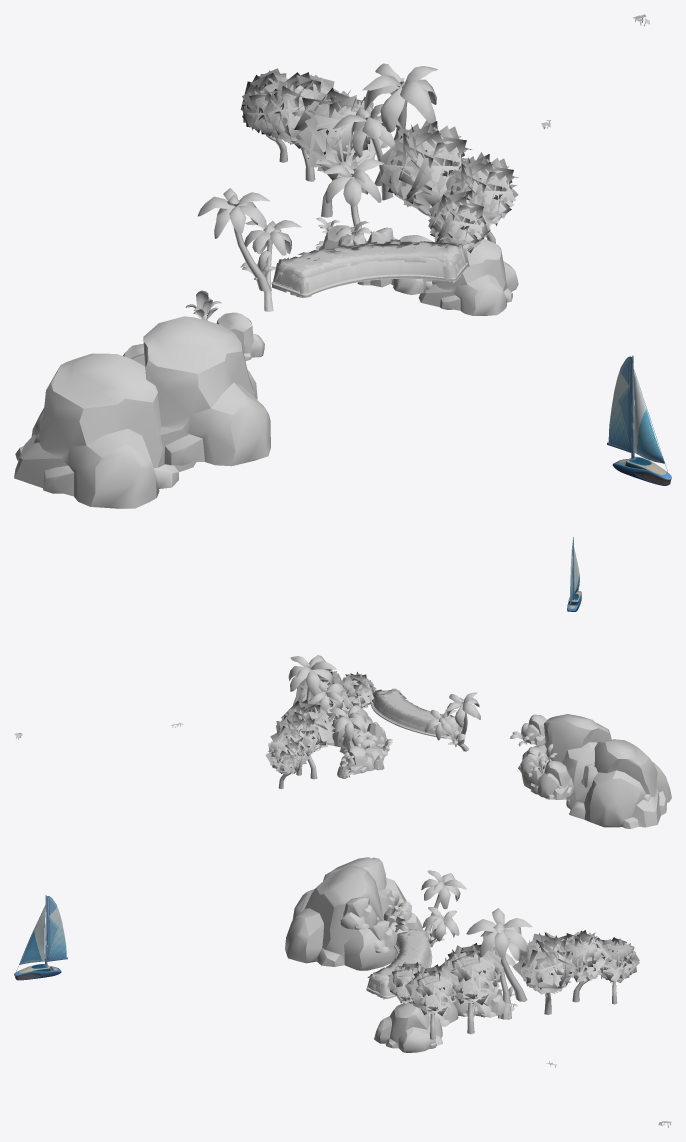
Rendered from pref_Area_Blue_Base_Small_beta_01_lv3.fbx.
3 views of the same model, one above another, from view 1: azimuth 30°, elevation 25°; view 2: azimuth 150°, elevation 25°; view 3: azimuth 270°, elevation 25° (orthographic). The views are drawn at different scales.
Parts seen in each view (by area): view 1: sm_beach_techqiutree02_lv3 (×6), pref_sm_beach_techrock01_lv3 (4), pref_sm_beach_techrock01_lv3 (3), pref_sm_beach_techvegetation04_lv3, pref_sm_beach_techptree02b_lv3 (×2), pref_sm_beach_sailboat02_lv3, pref_sm_beach_techrock01_lv3 (8), pref_sm_beach_techptree02b_lv3 (3), pref_sm_beach_techptree02b_lv3 (1), pref_sm_beach_techptree02b_lv3 (2), pref_sm_beach_techrock01_lv3 (1), sm_beach_techborn08_mirror02a_lv3 (+1 smaller); view 2: pref_sm_beach_techrock01_lv3 (4), sm_beach_techqiutree02_lv3 (×5), pref_sm_beach_techrock01_lv3 (3), pref_sm_beach_techptree02b_lv3 (×2), pref_sm_beach_techvegetation04_lv3, pref_sm_beach_techrock01_lv3 (10), pref_sm_beach_techptree02b_lv3 (3), pref_sm_beach_techptree02b_lv3 (1), pref_sm_beach_sailboat02_lv3, pref_sm_beach_techrock01_lv3 (2), pref_sm_beach_techptree02b_lv3 (2), pref_sm_beach_techrock01_lv3 (1); view 3: sm_beach_techqiutree02_lv3 (×6), pref_sm_beach_techrock01_lv3 (3), pref_sm_beach_sailboat02_lv3, pref_sm_beach_techptree02b_lv3 (×2), pref_sm_beach_techrock01_lv3 (8), pref_sm_beach_techvegetation04_lv3, pref_sm_beach_techrock01_lv3 (4), pref_sm_beach_techptree02b_lv3 (3), pref_sm_beach_techrock01_lv3 (1), pref_sm_beach_techptree02b_lv3 (2), pref_sm_beach_techrock01_lv3 (5), pref_sm_beach_techrock01_lv3 (2) (+1 smaller).
Part boxes in pixels (box(x1,y1,x2,y2)): sm_beach_techqiutree02_lv3 (×6): box(240, 68, 518, 253); pref_sm_beach_techrock01_lv3 (4): box(14, 353, 195, 508); pref_sm_beach_techrock01_lv3 (3): box(130, 316, 270, 466); pref_sm_beach_techvegetation04_lv3: box(271, 239, 469, 297); pref_sm_beach_techptree02b_lv3 (×2): box(333, 63, 437, 200); pref_sm_beach_sailboat02_lv3: box(607, 355, 671, 485); pref_sm_beach_techrock01_lv3 (8): box(418, 238, 518, 315); pref_sm_beach_techptree02b_lv3 (3): box(197, 188, 271, 291); pref_sm_beach_techptree02b_lv3 (1): box(323, 159, 383, 243); pref_sm_beach_techptree02b_lv3 (2): box(244, 220, 301, 311); pref_sm_beach_techrock01_lv3 (1): box(216, 312, 264, 361); sm_beach_techborn08_mirror02a_lv3: box(271, 263, 468, 297); pref_sm_beach_techrock01_lv3 (4): box(566, 739, 671, 828); sm_beach_techqiutree02_lv3 (×5): box(265, 672, 376, 774); pref_sm_beach_techrock01_lv3 (3): box(521, 714, 611, 799); pref_sm_beach_techptree02b_lv3 (×2): box(288, 655, 343, 711); pref_sm_beach_techvegetation04_lv3: box(372, 688, 462, 738); pref_sm_beach_techrock01_lv3 (10): box(533, 761, 573, 799); pref_sm_beach_techptree02b_lv3 (3): box(445, 692, 480, 744); pref_sm_beach_techptree02b_lv3 (1): box(329, 705, 366, 746); pref_sm_beach_sailboat02_lv3: box(567, 537, 581, 611); pref_sm_beach_techrock01_lv3 (2): box(340, 746, 374, 774); pref_sm_beach_techptree02b_lv3 (2): box(425, 710, 468, 751); pref_sm_beach_techrock01_lv3 (1): box(525, 714, 546, 745); sm_beach_techqiutree02_lv3 (×6): box(387, 930, 639, 1015); pref_sm_beach_techrock01_lv3 (3): box(285, 865, 397, 970); pref_sm_beach_sailboat02_lv3: box(14, 895, 67, 980); pref_sm_beach_techptree02b_lv3 (×2): box(466, 908, 532, 1003); pref_sm_beach_techrock01_lv3 (8): box(374, 1003, 442, 1052); pref_sm_beach_techvegetation04_lv3: box(366, 928, 430, 999); pref_sm_beach_techrock01_lv3 (4): box(292, 857, 406, 920); pref_sm_beach_techptree02b_lv3 (3): box(421, 870, 466, 938); pref_sm_beach_techrock01_lv3 (1): box(340, 897, 379, 929); pref_sm_beach_techptree02b_lv3 (2): box(422, 907, 459, 943); pref_sm_beach_techrock01_lv3 (5): box(368, 920, 396, 952); pref_sm_beach_techrock01_lv3 (2): box(475, 988, 505, 1017).
Size of the model in its own units: 53.9 by 13.68 by 53.08.
